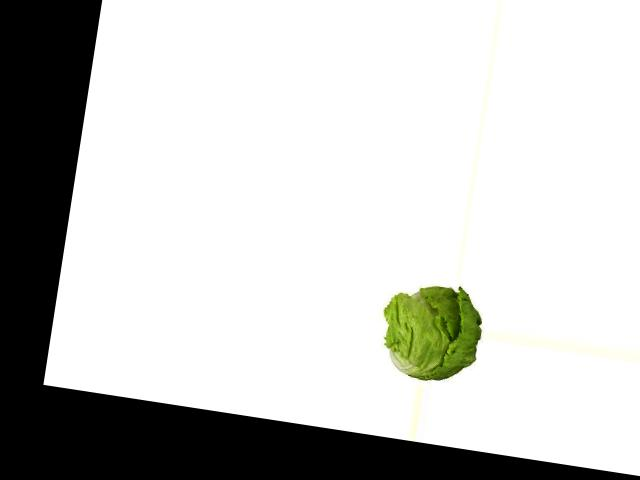lettuce: (378, 278, 487, 390)
